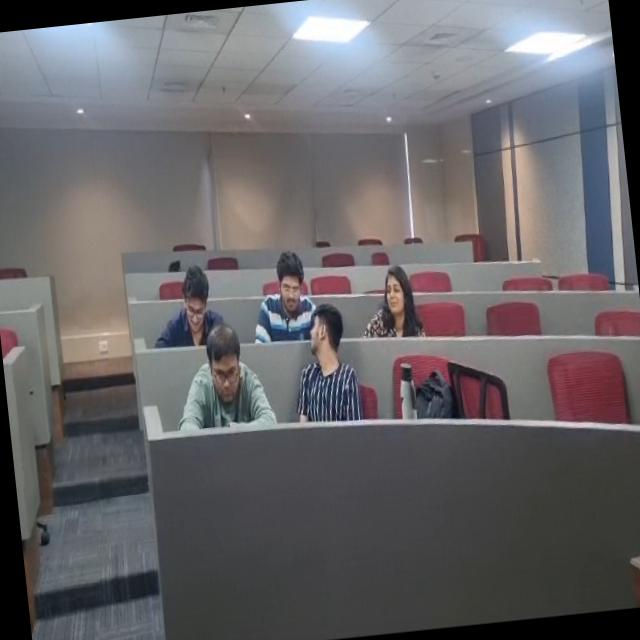cheating: (243, 232, 320, 336), (292, 306, 364, 404)
non-cheating: (175, 312, 264, 424), (352, 248, 429, 345), (159, 262, 222, 356)
